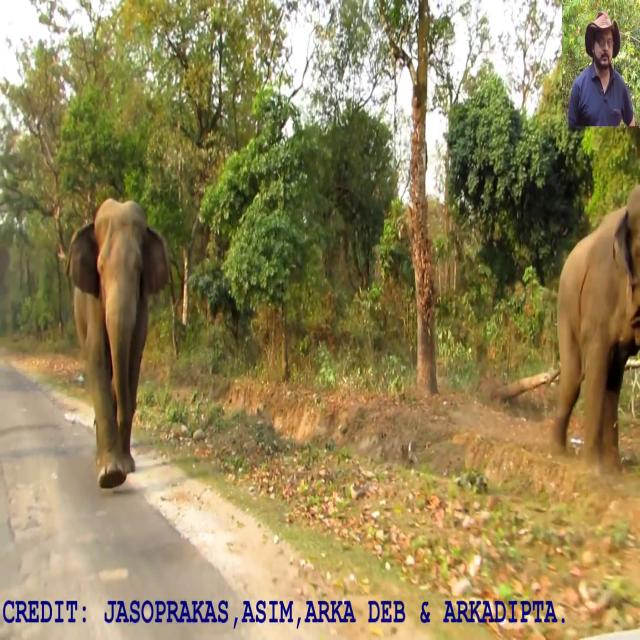Elephant: (65, 197, 170, 488), (553, 182, 640, 473)
